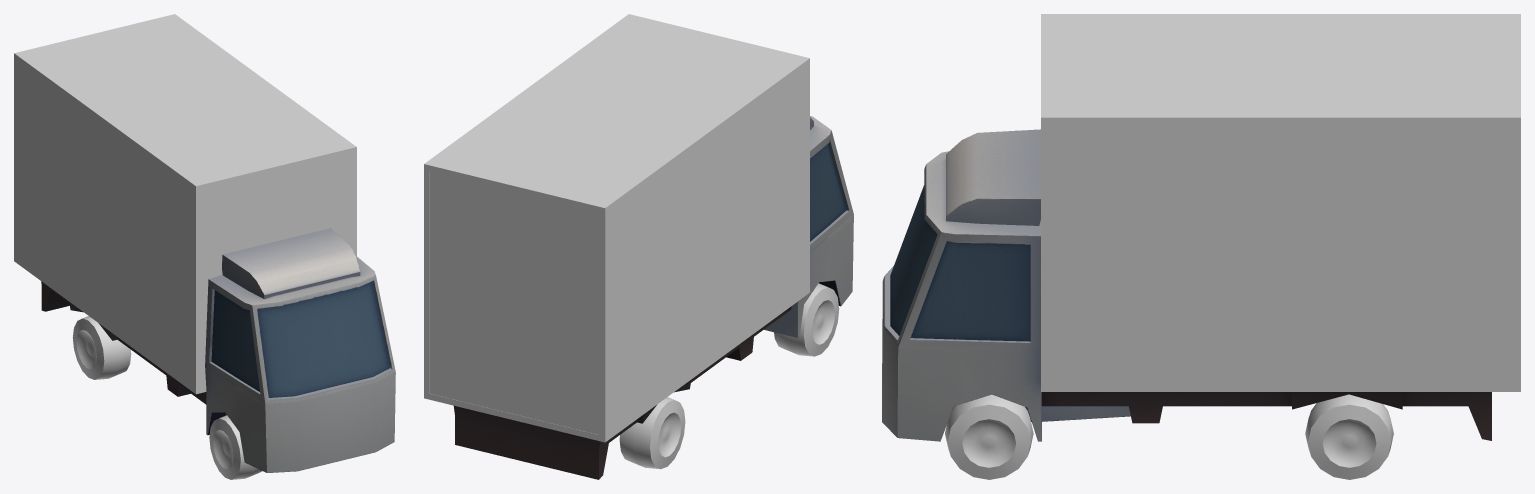
Rendered from truck 3.fbx.
3 renders of one model, left to right at view 1: azimuth 30°, elevation 25°; view 2: azimuth 150°, elevation 25°; view 3: azimuth 270°, elevation 25°, orthographic. The views are drawn at different scales.
Parts seen in each view (by area): view 1: truck_back, truck, tire (×2); view 2: truck_back, truck_back_door (×2), truck, tire (×2); view 3: truck_back, truck, tire (×2).
Boxes of the visible parts, x1,y1,x2,y2 form: truck_back: [14, 14, 356, 394]; truck: [41, 228, 395, 472]; tire (×2): [72, 316, 262, 479]; truck_back: [424, 14, 809, 442]; truck_back_door (×2): [430, 171, 599, 434]; truck: [453, 116, 853, 479]; tire (×2): [619, 283, 839, 469]; truck_back: [1041, 14, 1520, 391]; truck: [882, 129, 1491, 441]; tire (×2): [945, 394, 1393, 479].
Bounding box in the file's own units: 138 × 231 × 360.
1 material, 1 textured.
